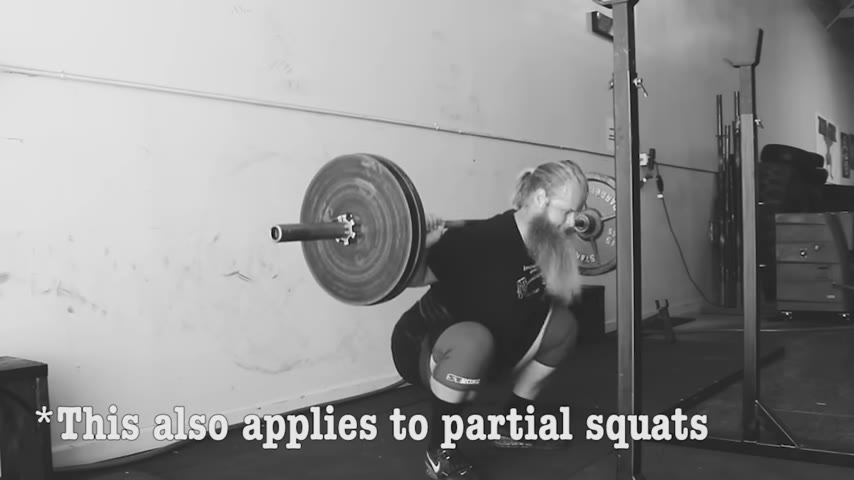barbell_plate_side: (268, 150, 373, 326)
